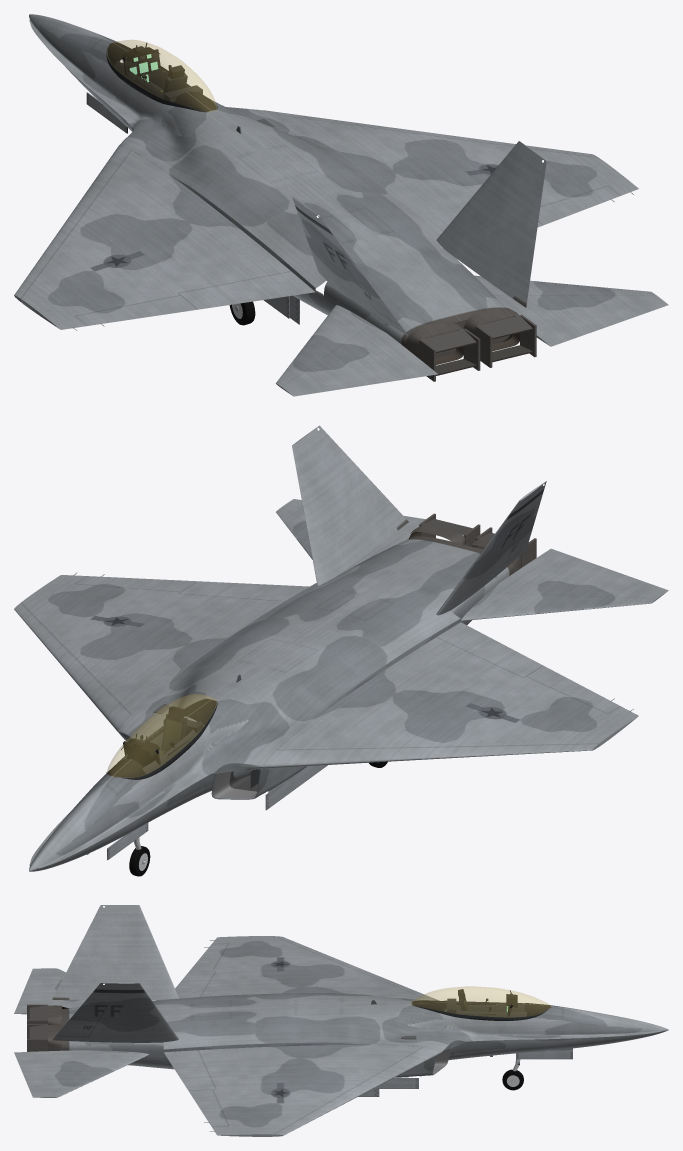
3 views of the same model, one above another, from view 1: azimuth 30°, elevation 25°; view 2: azimuth 150°, elevation 25°; view 3: azimuth 270°, elevation 25° (orthographic). The views are drawn at different scales.
Visible parts, largest first — view 1: fuselage, stab_L, stab_R, canopy, nozzle, flap_L, cockpit, lef_L, rudder_R, ail_L, ail_R, vec_R (+3 smaller); view 2: fuselage, stab_L, canopy, lef_L, cockpit, lef_R, flap_L, stab_R, flap_R, rudder_R, nozzle, ail_L (+2 smaller); view 3: fuselage, stab_R, canopy, lef_R, stab_L, rudder_L, cockpit, flap_R, nozzle, rudder_R, ail_R, flap_L (+5 smaller).
Boxes of the visible parts, box(x1,y1,x2,y2) form: fuselage: box(21, 14, 638, 358); stab_L: box(276, 305, 437, 396); stab_R: box(474, 275, 668, 346); canopy: box(107, 40, 216, 112); nozzle: box(406, 307, 536, 381); flap_L: box(179, 271, 315, 309); cockpit: box(113, 43, 202, 101); lef_L: box(14, 146, 131, 301); rudder_R: box(502, 206, 538, 295); ail_L: box(76, 295, 197, 325); ail_R: box(538, 186, 619, 225); vec_R: box(478, 315, 532, 362); fuselage: box(21, 425, 638, 871); stab_L: box(461, 548, 668, 620); canopy: box(107, 694, 216, 777); lef_L: box(263, 743, 598, 768); cockpit: box(118, 706, 204, 774); lef_R: box(14, 603, 131, 731); flap_L: box(436, 622, 542, 677); stab_R: box(276, 499, 425, 574); flap_R: box(179, 581, 308, 601); rudder_R: box(338, 464, 401, 530); nozzle: box(409, 513, 536, 571); ail_L: box(526, 665, 620, 713); fuselage: box(52, 905, 668, 1136); stab_R: box(14, 1050, 149, 1097); canopy: box(410, 986, 551, 1017); lef_R: box(273, 1047, 441, 1136); stab_L: box(14, 968, 85, 1014); rudder_L: box(56, 943, 106, 992); cockpit: box(444, 989, 526, 1017); flap_R: box(164, 1050, 215, 1090); nozzle: box(27, 1004, 67, 1051); rudder_R: box(56, 1006, 106, 1036); ail_R: box(189, 1089, 228, 1126); flap_L: box(175, 971, 215, 998).
Bounding box in the file's own units: 13.56 × 4.65 × 18.92.
10 materials, 1 textured.
